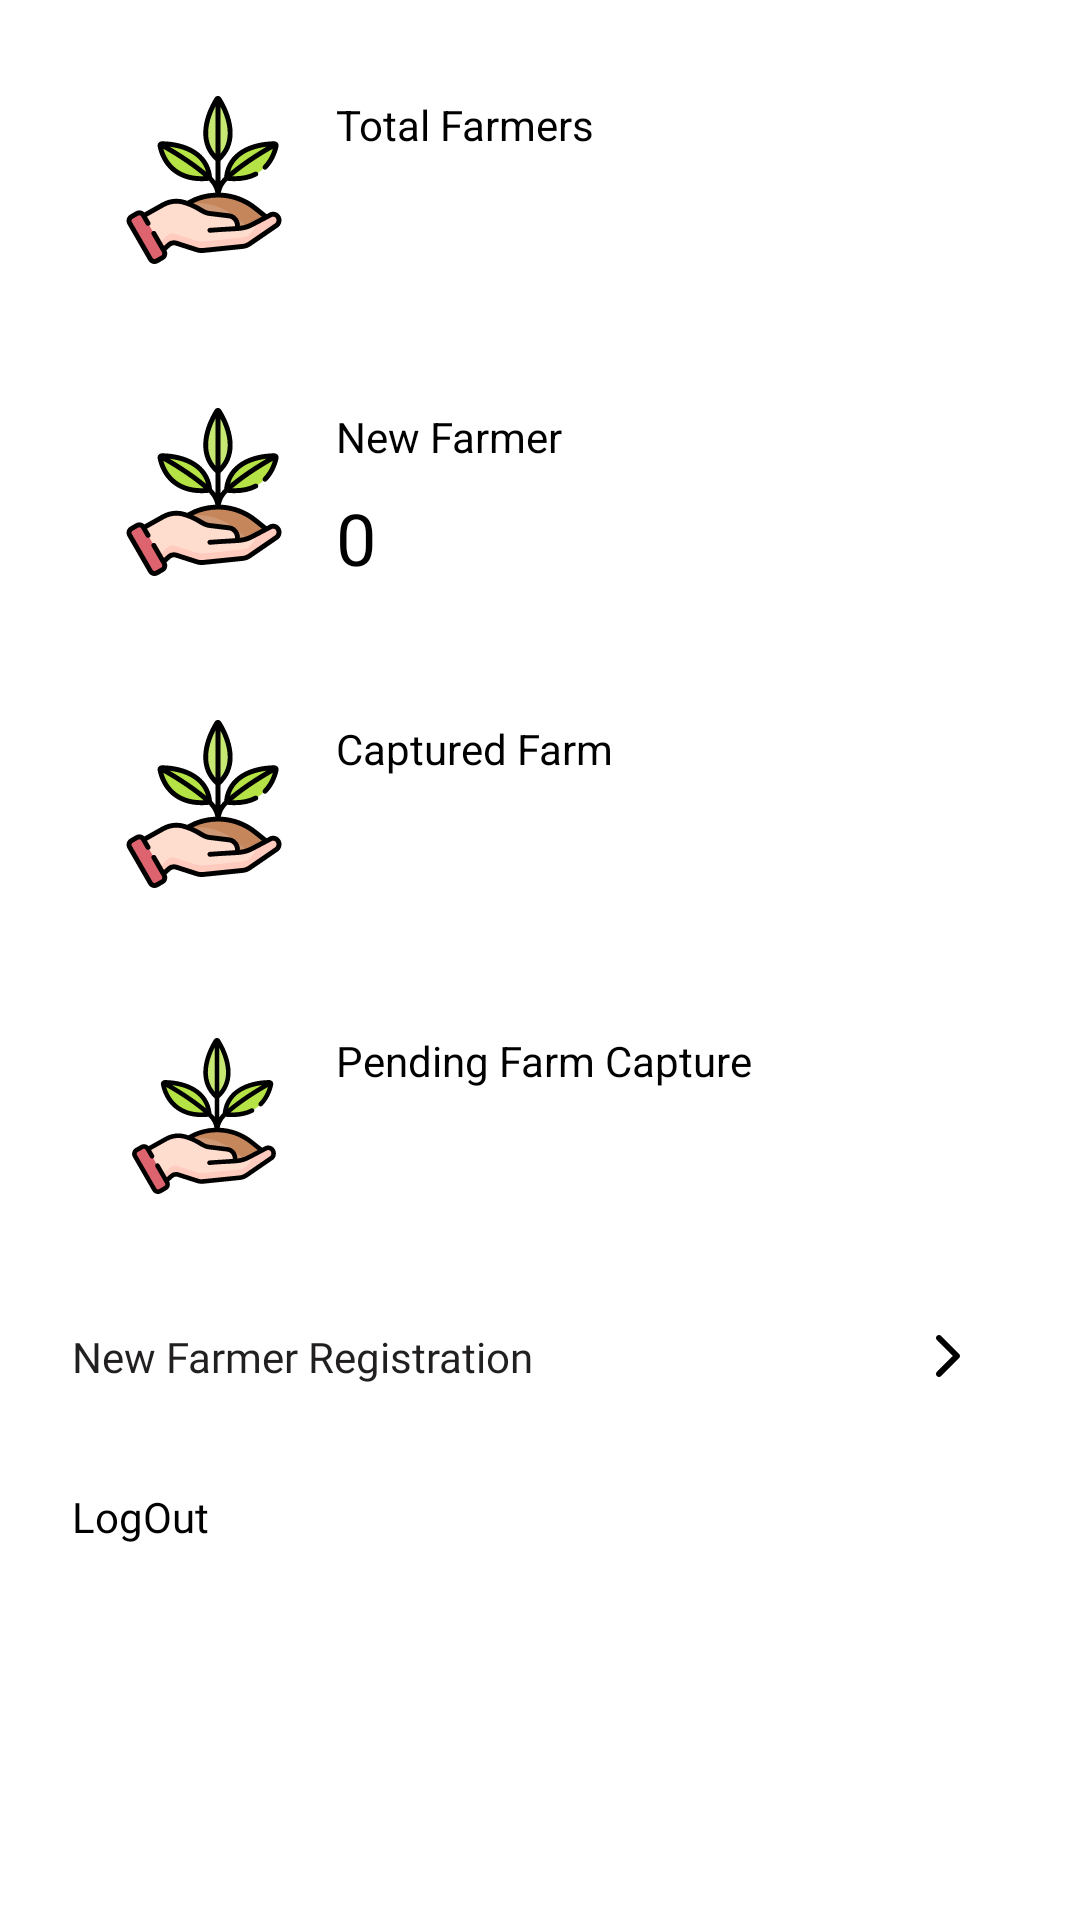

Named icons in this screenshot (1080w x 1920h) and their centers, [x,y]:
planting: [204,180], [204,492], [204,804], [204,1116]
right navigation: [948,1356]
